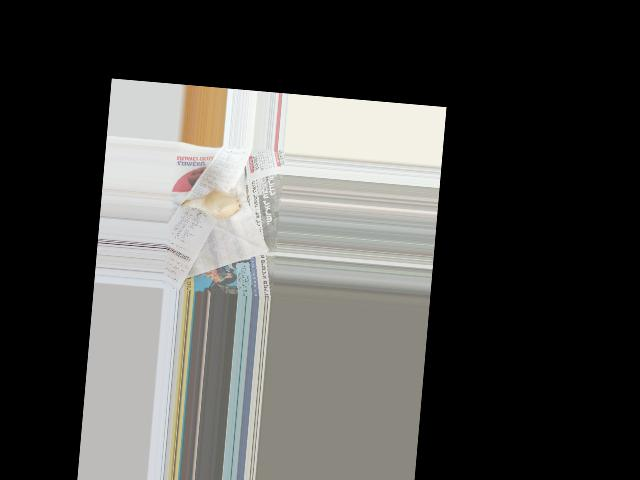onion: (196, 189, 242, 224)
